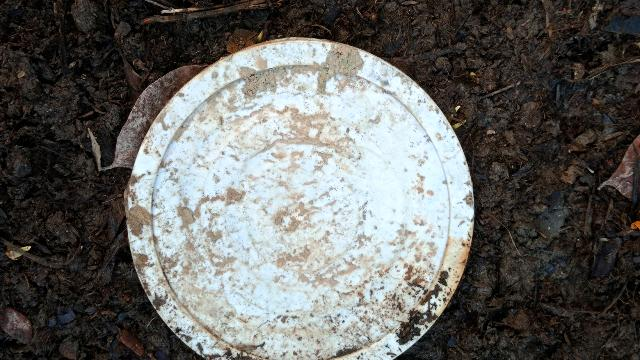hardplastic: (110, 28, 467, 360)
